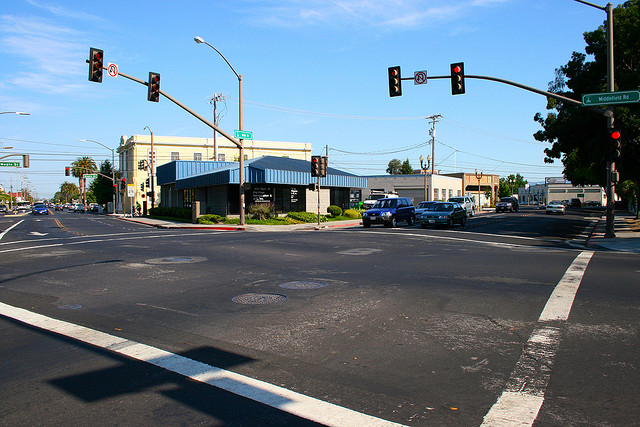Car: (360, 197, 413, 228), (425, 201, 470, 226)
Traffic light: (61, 165, 138, 203), (605, 124, 626, 174), (445, 60, 469, 102), (87, 45, 104, 87), (387, 64, 404, 102), (307, 156, 333, 180), (150, 68, 159, 101)
